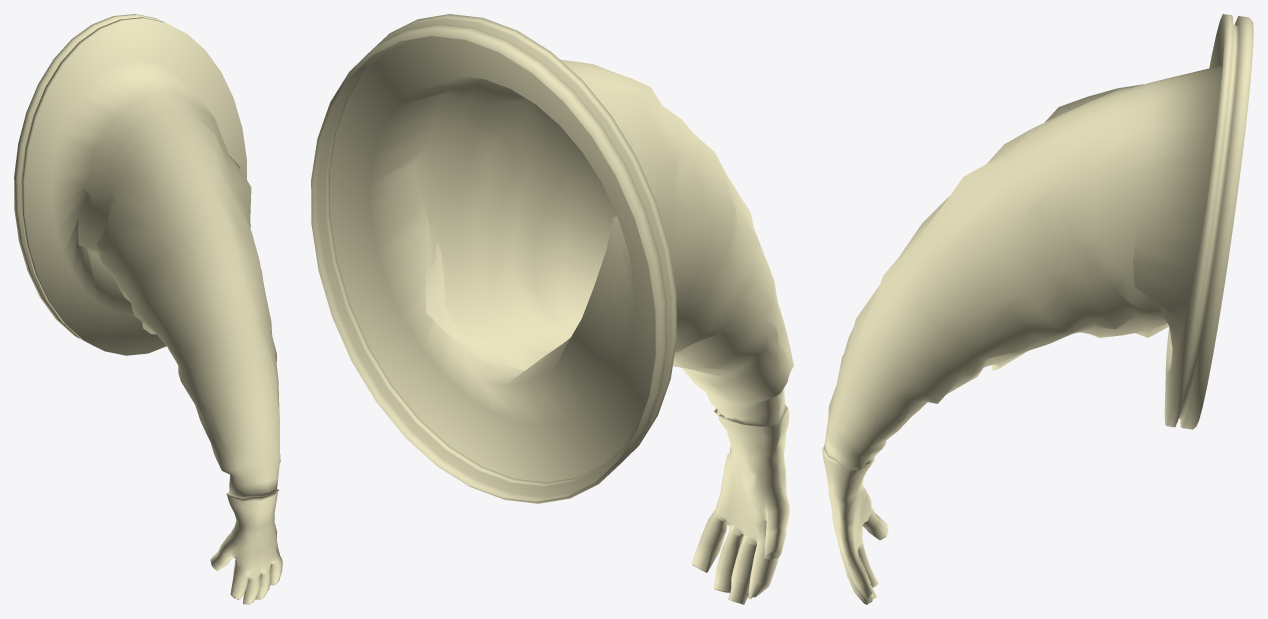
The model's file is glove_09262025.fbx.
3 renders of one model, left to right at view 1: azimuth 30°, elevation 25°; view 2: azimuth 150°, elevation 25°; view 3: azimuth 270°, elevation 25°, orthographic. The views are drawn at different scales.
Visible parts, largest first — view 1: glove demonstration; view 2: glove demonstration; view 3: glove demonstration.
Boxes of the visible parts, box(x1,y1,x2,y2) form: glove demonstration: box(14, 14, 282, 604); glove demonstration: box(311, 14, 793, 604); glove demonstration: box(822, 14, 1253, 604).
Bounding box in the file's own units: 30.76 × 62.68 × 41.69.
